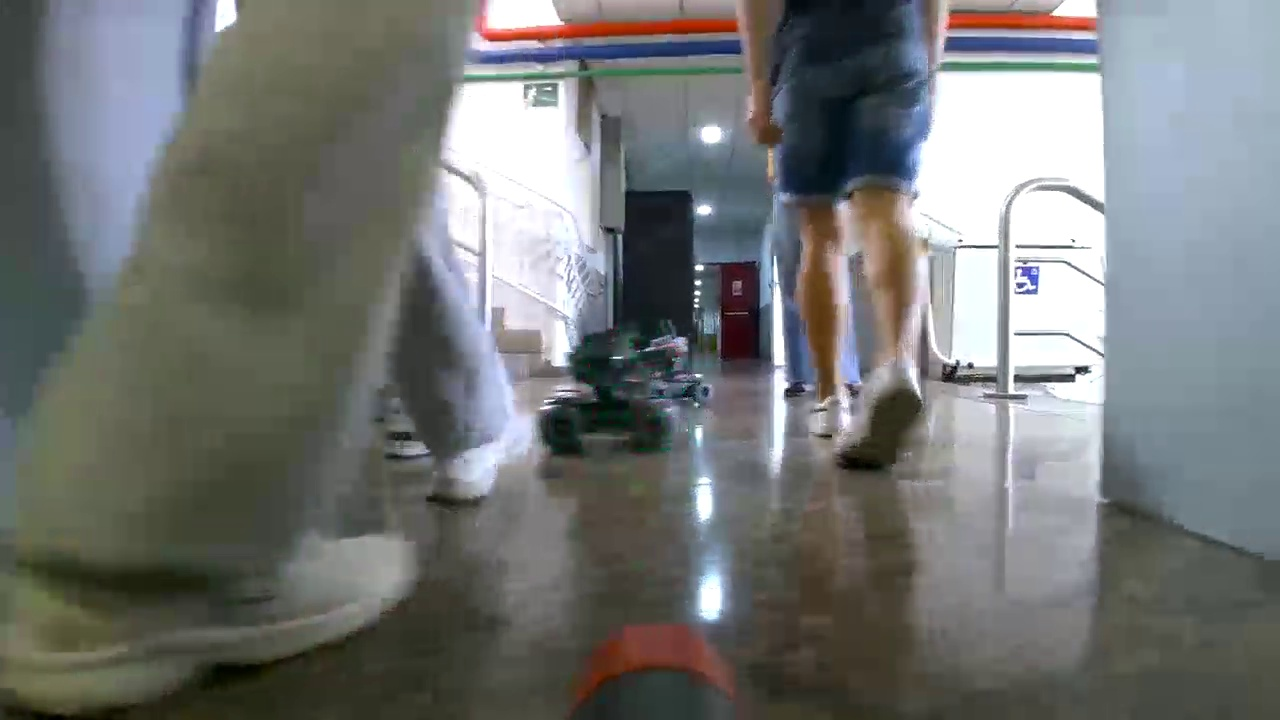robot: (527, 318, 683, 466), (634, 312, 726, 411)
